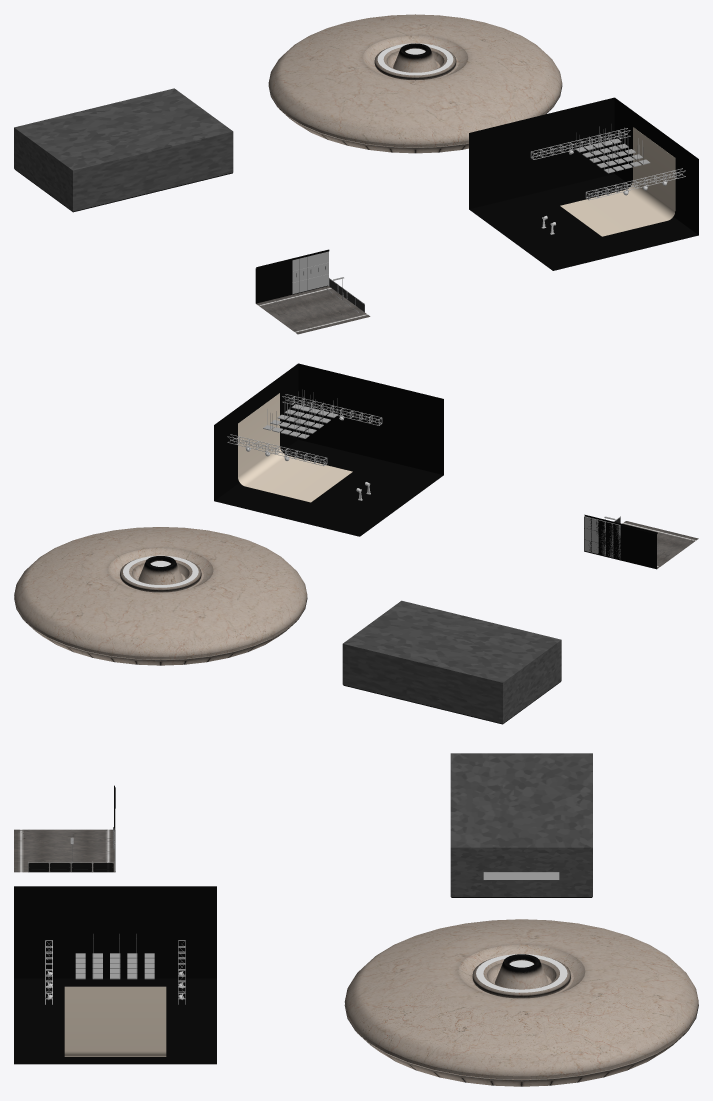
Rendered from uploads_files_3956093_car-expo.fbx.
The picture shows the model from 3 angles, top to bottom: view 1: azimuth 30°, elevation 25°; view 2: azimuth 150°, elevation 25°; view 3: azimuth 270°, elevation 25°; orthographic projection. The views are drawn at different scales.
Visible parts, largest first — view 1: Room 2, Room 3, Room 1, Plane, Plane 4, racks, Wall, lamps 1, panels; view 2: Room 2, Room 3, Room 1, Plane, Wall, racks, lamps 1, Plane 4, panels; view 3: Room 2, Room 3, Room 1, Plane, Plane 4, lamps 1, barrier, racks, Logotype.
Part boxes in pixels (box(x1,y1,x2,y2)): Room 2: box(268, 14, 562, 153); Room 3: box(469, 97, 698, 270); Room 1: box(14, 88, 233, 211); Plane: box(560, 127, 675, 236); Plane 4: box(256, 286, 370, 334); racks: box(530, 128, 685, 200); Wall: box(255, 249, 329, 303); lamps 1: box(575, 124, 650, 173); panels: box(292, 251, 328, 294); Room 2: box(14, 527, 307, 665); Room 3: box(214, 363, 443, 536); Room 1: box(342, 600, 561, 723); Plane: box(238, 393, 352, 502); Wall: box(584, 514, 657, 569); racks: box(227, 394, 382, 465); lamps 1: box(263, 389, 337, 438); Plane 4: box(622, 521, 698, 568); panels: box(584, 516, 620, 559); Room 2: box(344, 919, 698, 1086); Room 3: box(14, 886, 216, 1064); Room 1: box(450, 753, 592, 896); Plane: box(64, 986, 166, 1056); Plane 4: box(14, 829, 115, 872); lamps 1: box(75, 934, 154, 979); barrier: box(28, 861, 114, 872); racks: box(45, 940, 185, 1004); Logotype: box(483, 872, 559, 879).
Size of the model in its own units: 6845 by 1031 by 6745.
